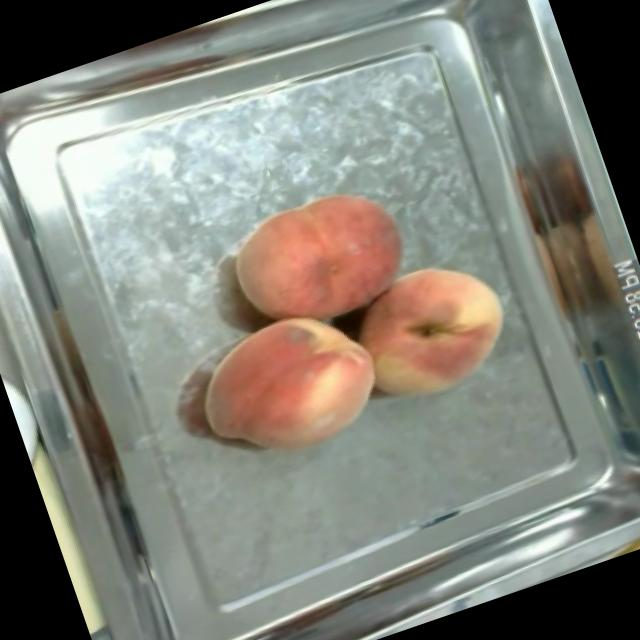Fruit: (178, 286, 402, 485), (212, 165, 426, 354), (333, 238, 532, 422)
